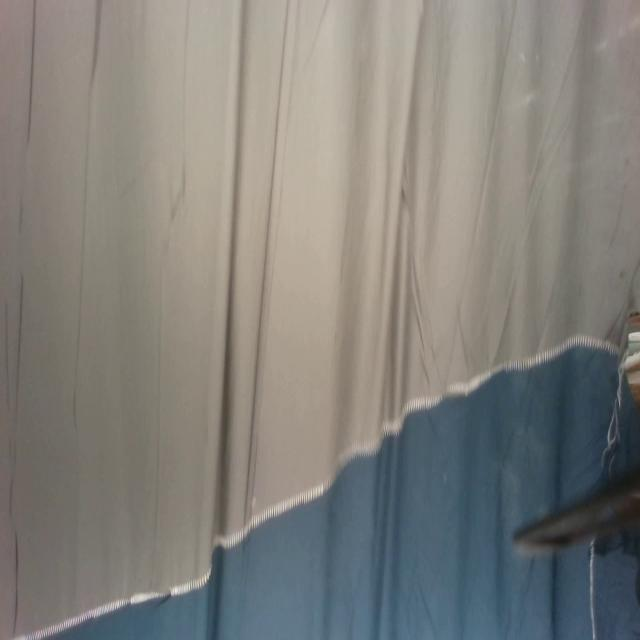crease: (242, 0, 300, 522), (72, 0, 104, 433), (24, 0, 40, 153), (13, 269, 27, 419), (12, 532, 20, 634), (4, 296, 10, 412)
hole: (623, 317, 639, 412)
